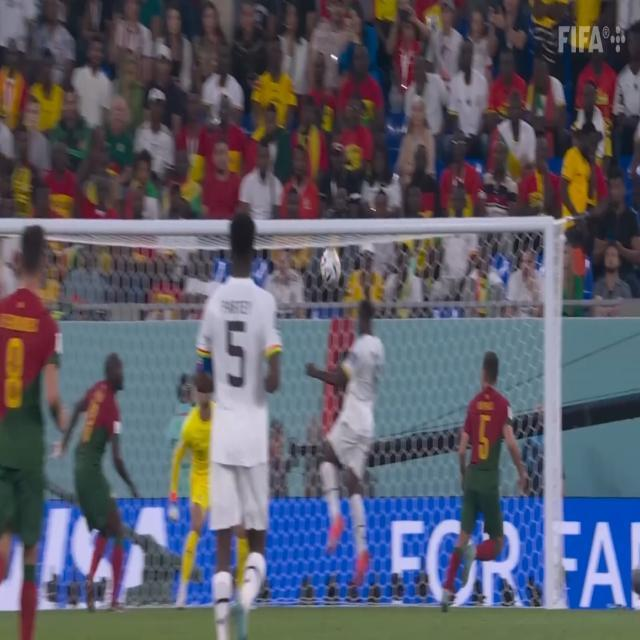football: (308, 244, 362, 293)
